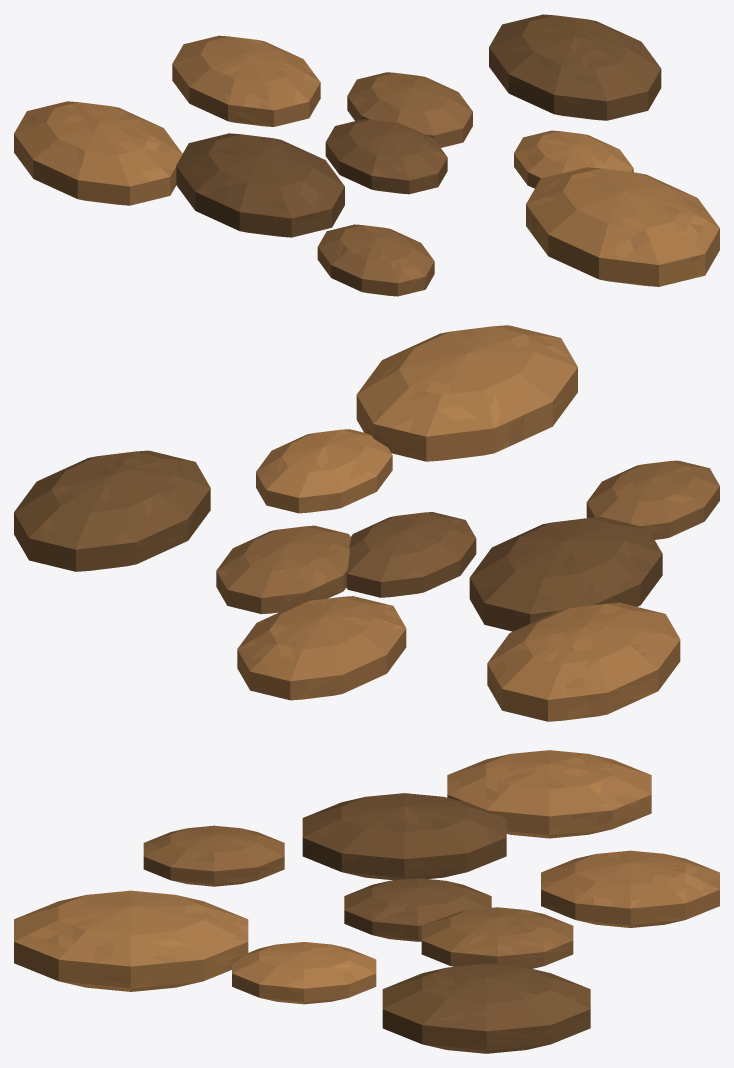
The model's file is seed_tobacco.glb.
3 renders of one model, top to bottom at view 1: azimuth 30°, elevation 25°; view 2: azimuth 150°, elevation 25°; view 3: azimuth 270°, elevation 25°, orthographic. The views are drawn at different scales.
Parts seen in each view (by area): view 1: block_grain 8, block_grain 6, block_grain 2, block_grain 7, block_grain 4, block_grain 0, block_grain 5, block_grain 1, block_grain 3; view 2: block_grain 8, block_grain 6, block_grain 7, block_grain 2, block_grain 4, block_grain 1, block_grain 0, block_grain 3, block_grain 5; view 3: block_grain 8, block_grain 6, block_grain 2, block_grain 7, block_grain 4, block_grain 1, block_grain 3, block_grain 5, block_grain 0.
Boxes of the visible parts, box(x1,y1,x2,y2) form: block_grain 8: box(526, 167, 719, 286); block_grain 6: box(489, 14, 661, 120); block_grain 2: box(176, 133, 344, 237); block_grain 7: box(14, 101, 182, 205); block_grain 4: box(172, 35, 320, 126); block_grain 0: box(325, 119, 447, 194); block_grain 5: box(317, 224, 434, 296); block_grain 1: box(347, 72, 472, 147); block_grain 3: box(514, 130, 633, 188); block_grain 8: box(356, 325, 577, 461); block_grain 6: box(14, 450, 210, 571); block_grain 7: box(487, 602, 680, 721); block_grain 2: box(469, 517, 662, 631); block_grain 4: box(237, 596, 406, 700); block_grain 1: box(216, 525, 351, 614); block_grain 0: box(346, 512, 476, 597); block_grain 3: box(256, 429, 392, 513); block_grain 5: box(586, 460, 719, 539); block_grain 8: box(14, 890, 248, 991); block_grain 6: box(382, 963, 590, 1053); block_grain 2: box(302, 793, 506, 880); block_grain 7: box(447, 750, 651, 838); block_grain 4: box(541, 850, 719, 927); block_grain 1: box(421, 907, 573, 968); block_grain 3: box(232, 942, 376, 1004); block_grain 5: box(143, 825, 284, 886); block_grain 0: box(344, 878, 491, 941).
Bounding box in the file's own units: 0.0206 × 0.00242 × 0.022.
Materials: 1 (1 with a texture image).
